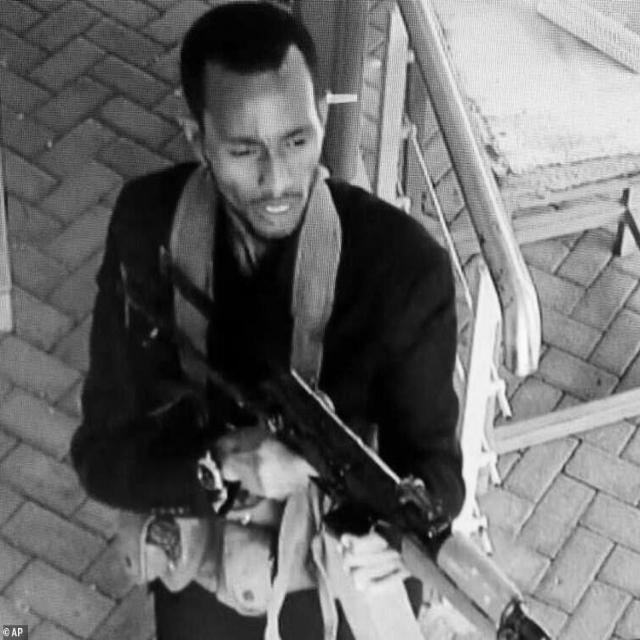gun: (152, 243, 548, 639)
